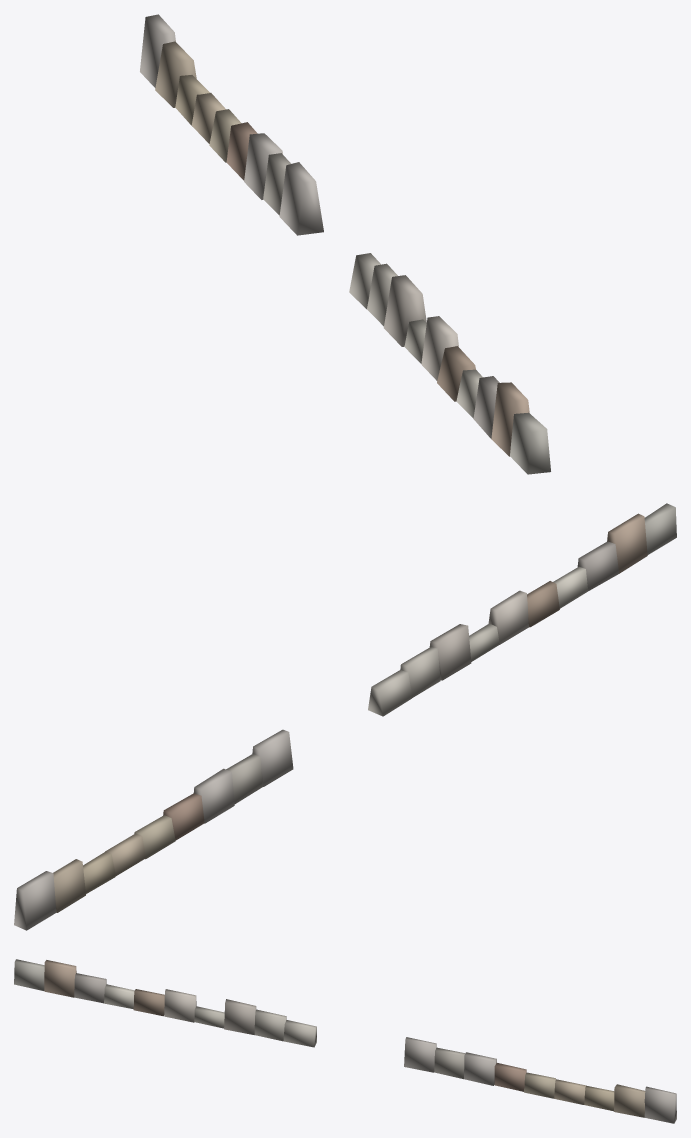
File: farm_-31_-23_far.glb
3 renders of one model, top to bottom at view 1: azimuth 30°, elevation 25°; view 2: azimuth 150°, elevation 25°; view 3: azimuth 270°, elevation 25°, orthographic. The views are drawn at different scales.
Parts seen in each view (by area): view 1: geometry_0; view 2: geometry_0; view 3: geometry_0.
Boxes of the visible parts, box(x1,y1,x2,y2) form: geometry_0: box(140, 14, 550, 474); geometry_0: box(14, 503, 676, 930); geometry_0: box(14, 959, 676, 1123).
Size of the model in its own units: 8.56 by 5.43 by 33.54.
